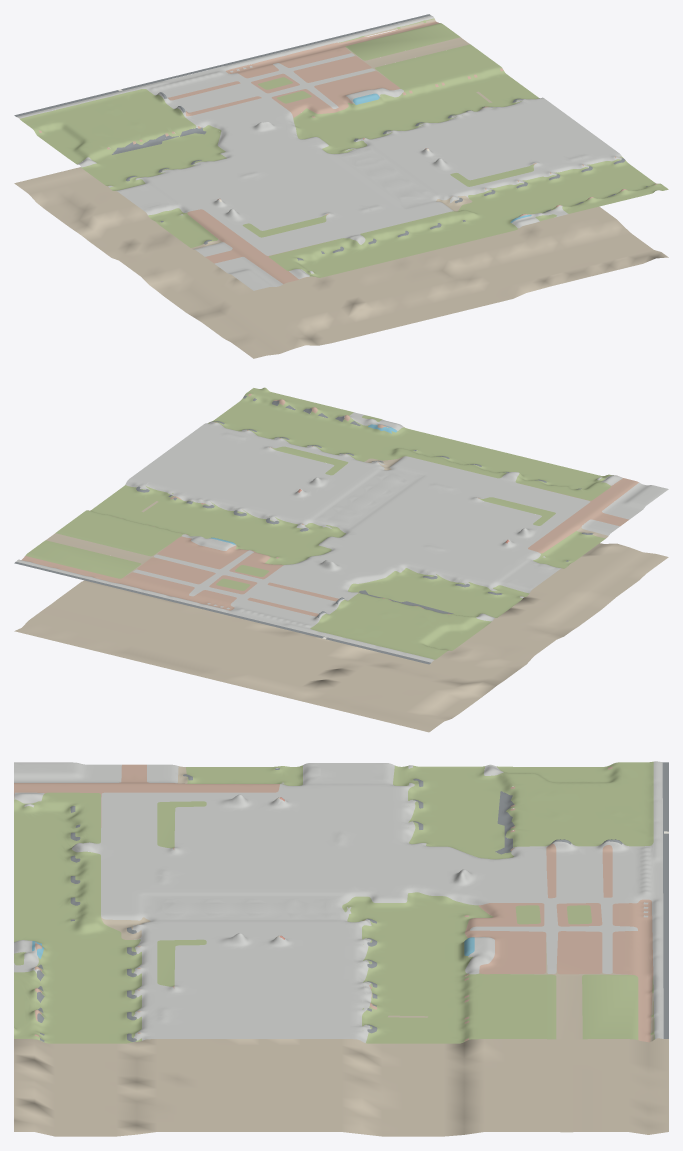
3 renders of one model, top to bottom at view 1: azimuth 30°, elevation 25°; view 2: azimuth 150°, elevation 25°; view 3: azimuth 270°, elevation 25°, orthographic. The views are drawn at different scales.
Parts seen in each view (by area): view 1: s_-6_4__stone_paving, s_-6_4__soil, s_-6_4__grass, s_-6_4__brick_paving, s_-6_4__asphalt; view 2: s_-6_4__stone_paving, s_-6_4__soil, s_-6_4__grass, s_-6_4__brick_paving, s_-6_4__asphalt; view 3: s_-6_4__stone_paving, s_-6_4__grass, s_-6_4__soil, s_-6_4__brick_paving, s_-6_4__asphalt.
Part boxes in pixels (<box>): s_-6_4__stone_paving: <box>17,15,622,290</box>; s_-6_4__soil: <box>14,19,668,358</box>; s_-6_4__grass: <box>20,18,668,277</box>; s_-6_4__brick_paving: <box>38,21,657,283</box>; s_-6_4__asphalt: <box>14,14,647,260</box>; s_-6_4__stone_paving: <box>16,412,668,662</box>; s_-6_4__soil: <box>14,426,668,732</box>; s_-6_4__grass: <box>25,387,613,659</box>; s_-6_4__brick_paving: <box>21,393,638,649</box>; s_-6_4__asphalt: <box>14,395,593,664</box>; s_-6_4__stone_paving: <box>14,761,663,1042</box>; s_-6_4__grass: <box>14,761,654,1043</box>; s_-6_4__soil: <box>14,766,668,1136</box>; s_-6_4__brick_paving: <box>14,764,653,1042</box>; s_-6_4__asphalt: <box>37,762,668,1041</box>.
Size of the model in its own units: 128 by 22.86 by 128.
